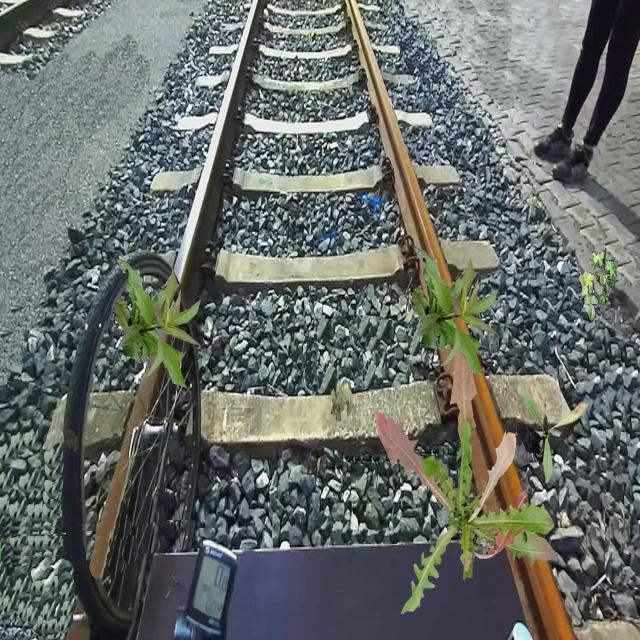Plant: (376, 336, 556, 614), (114, 259, 202, 389), (412, 247, 500, 377), (516, 384, 588, 484), (579, 248, 616, 322), (331, 379, 357, 422)
